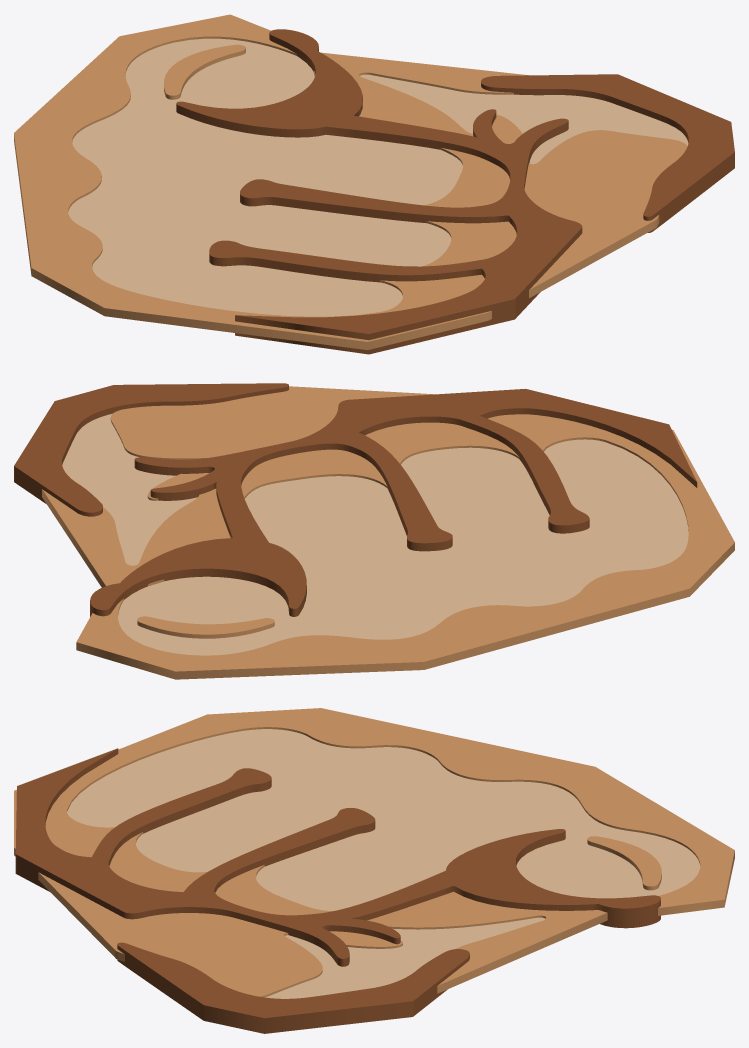
Rendered from emoji_u1faf5_1f3fc.glb.
The picture shows the model from 3 angles, top to bottom: view 1: azimuth 30°, elevation 25°; view 2: azimuth 150°, elevation 25°; view 3: azimuth 270°, elevation 25°; orthographic projection. The views are drawn at different scales.
Visible parts, largest first — view 1: emoji_u1faf5_1f3fc; view 2: emoji_u1faf5_1f3fc; view 3: emoji_u1faf5_1f3fc.
Part boxes in pixels (bbox=[...]): emoji_u1faf5_1f3fc: bbox=[14, 14, 734, 354]; emoji_u1faf5_1f3fc: bbox=[14, 383, 734, 679]; emoji_u1faf5_1f3fc: bbox=[14, 708, 734, 1033].
Bounding box in the file's own units: 0.0344 × 0.001 × 0.0333.
